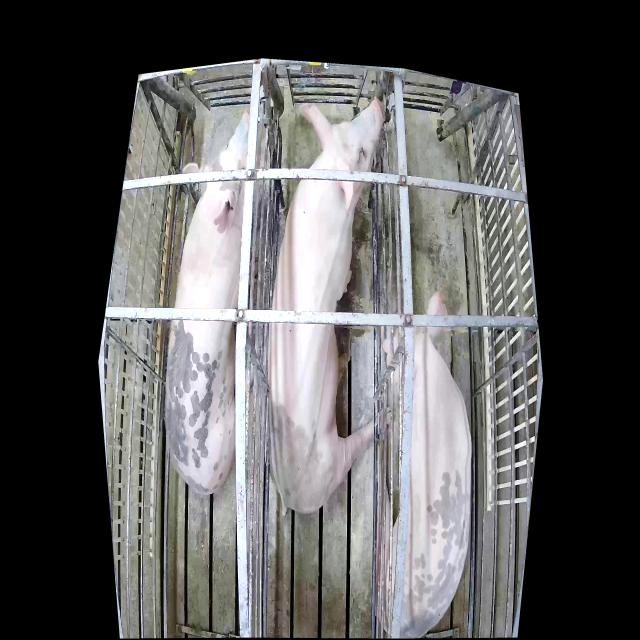pig: (267, 101, 384, 516), (165, 110, 257, 493), (375, 290, 471, 637)
